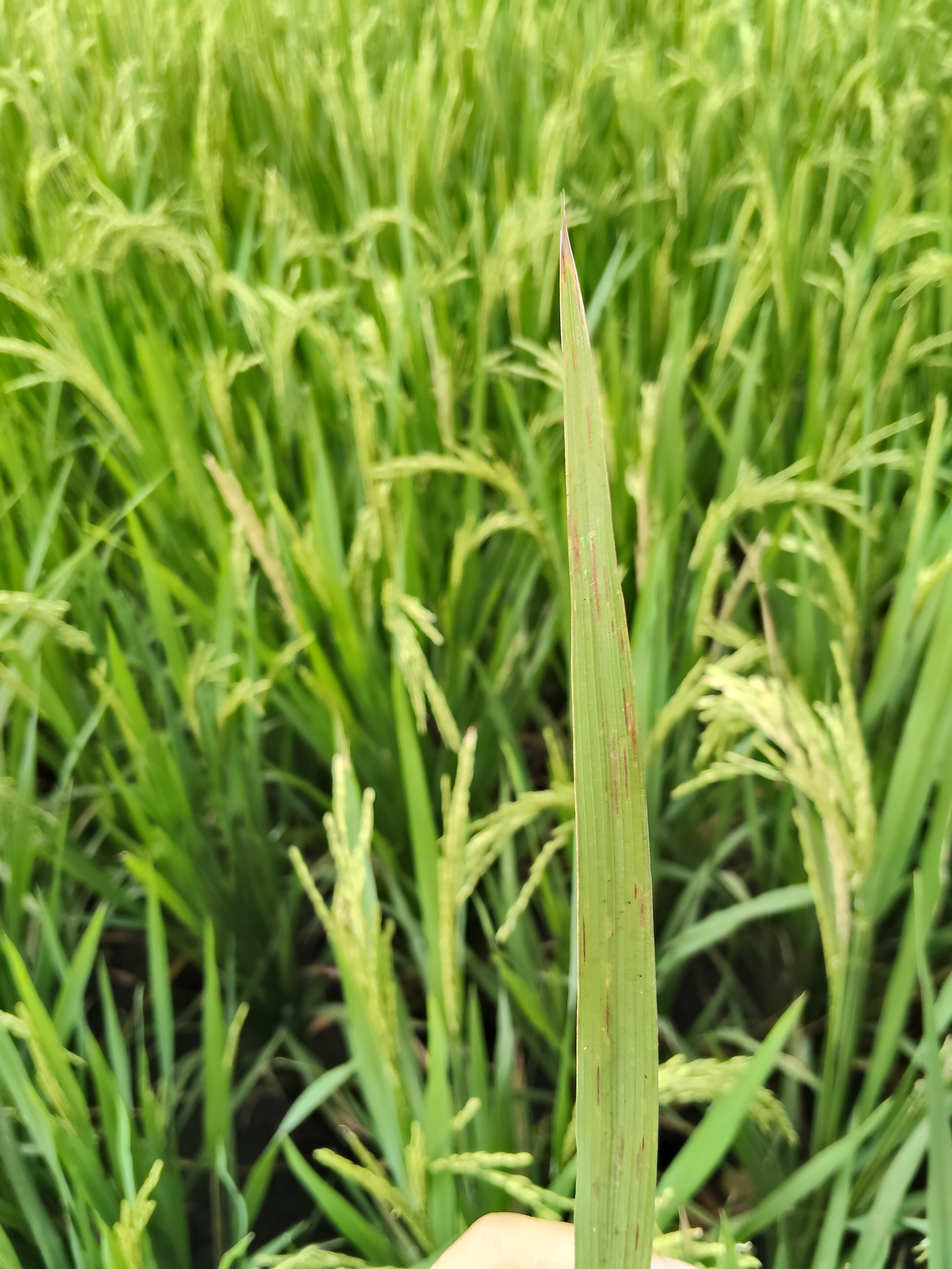NBS: (591, 537, 600, 621), (612, 737, 619, 814), (572, 520, 580, 567), (622, 686, 629, 737), (623, 748, 628, 800), (586, 409, 592, 449), (596, 1063, 600, 1107), (606, 992, 610, 1035), (635, 1222, 640, 1251), (604, 565, 608, 601), (632, 723, 636, 759), (583, 916, 586, 963), (571, 345, 576, 371), (640, 902, 644, 925), (621, 631, 624, 660), (641, 1136, 645, 1149), (634, 884, 637, 899), (611, 620, 614, 632)
